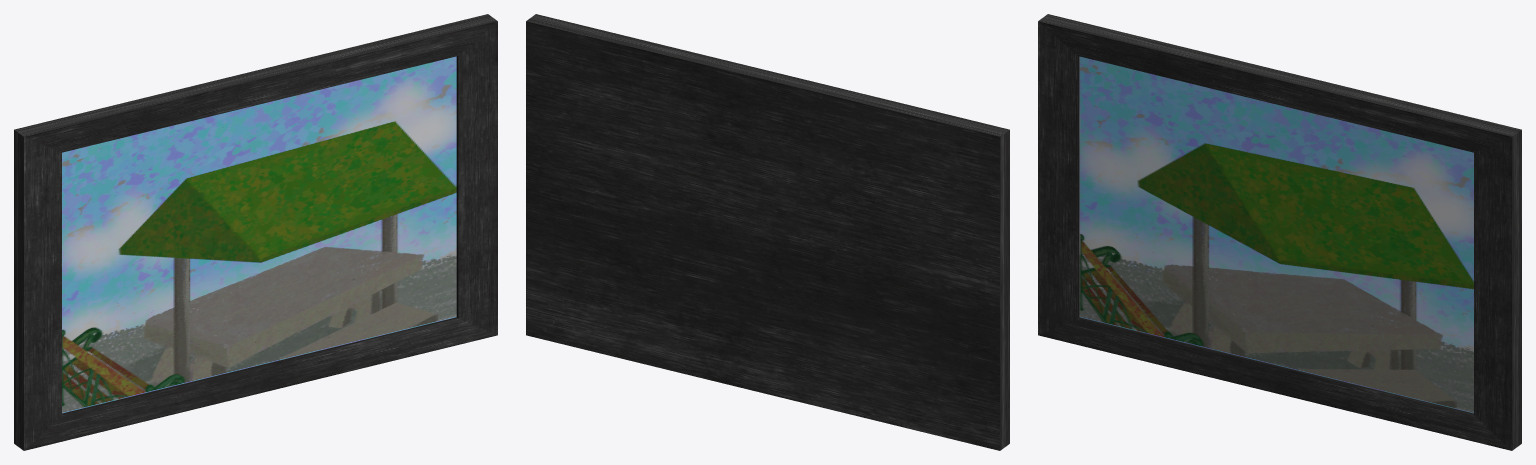
File: painting_landscape_1.fbx
3 views of the same model, side by side, from view 1: azimuth 30°, elevation 25°; view 2: azimuth 150°, elevation 25°; view 3: azimuth 330°, elevation 25° (orthographic).
Parts seen in each view (by area): view 1: painting_Var9; view 2: painting_Var9; view 3: painting_Var9.
Part boxes in pixels (x1,y1,x2,y2): painting_Var9: [14, 14, 497, 450]; painting_Var9: [526, 14, 1009, 450]; painting_Var9: [1038, 14, 1521, 450].
Bounding box in the file's own units: 113 × 71.52 × 4.11.
Materials: 1 (1 with a texture image).
